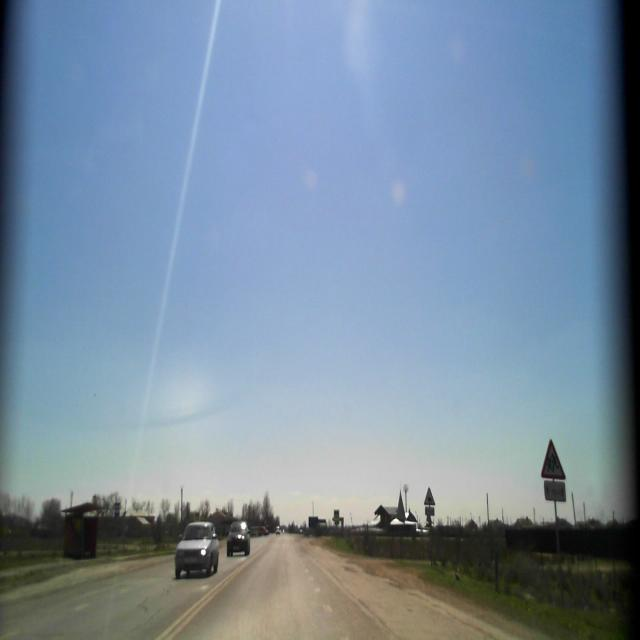road sign: (541, 439, 566, 481), (424, 482, 437, 510)
